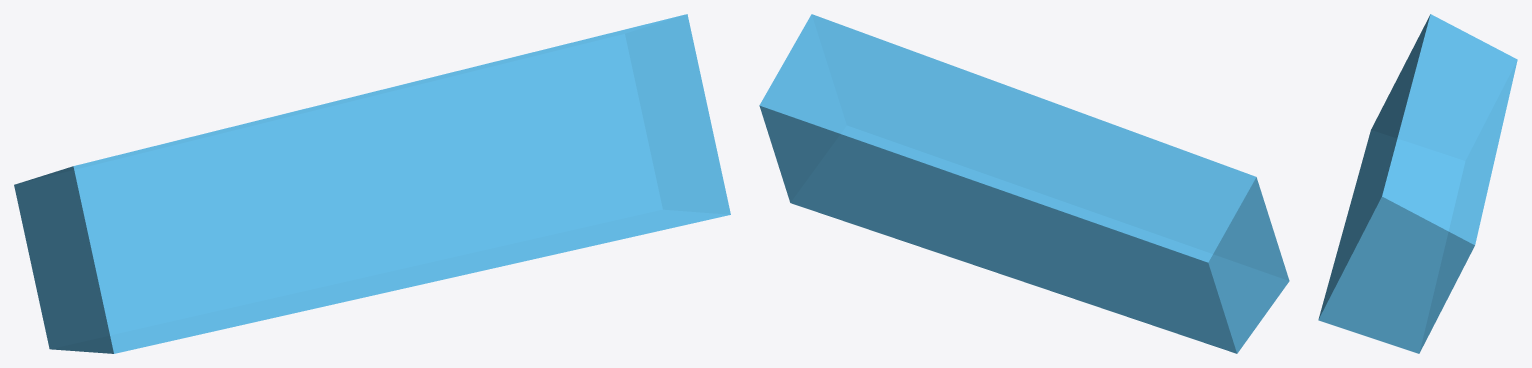
File: Event_421364160_HErechit_51.fbx
The picture shows the model from 3 angles, left to right: view 1: azimuth 30°, elevation 25°; view 2: azimuth 150°, elevation 25°; view 3: azimuth 270°, elevation 25°; orthographic projection. The views are drawn at different scales.
Parts seen in each view (by area): view 1: Model; view 2: Model; view 3: Model.
Part boxes in pixels (x1,y1,x2,y2): Model: (14, 14, 730, 353); Model: (759, 14, 1289, 353); Model: (1318, 14, 1517, 353).
Size of the model in its own units: 0.7379 by 0.2851 by 0.2988.
